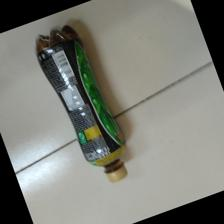Olong: (34, 24, 131, 184)
